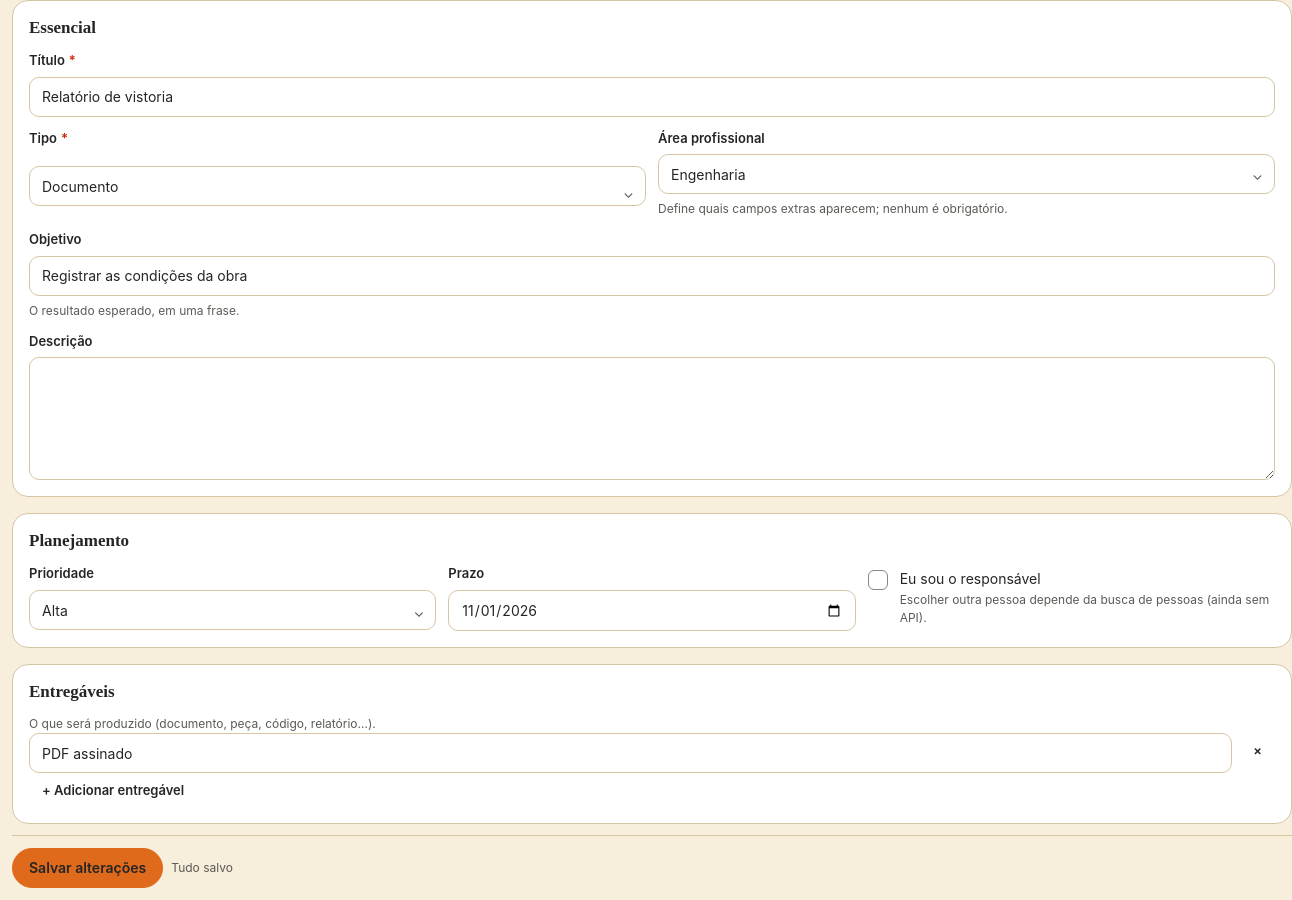
criador e edição de tarefa (RF4/RF12) › 422 do servidor aparece junto do campo; 409 mantém o texto e oferece recarregar
Replace the text in the field labelled "Título*" with "Meu texto local" at (652, 97), box left=29, top=77, right=1275, bottom=117
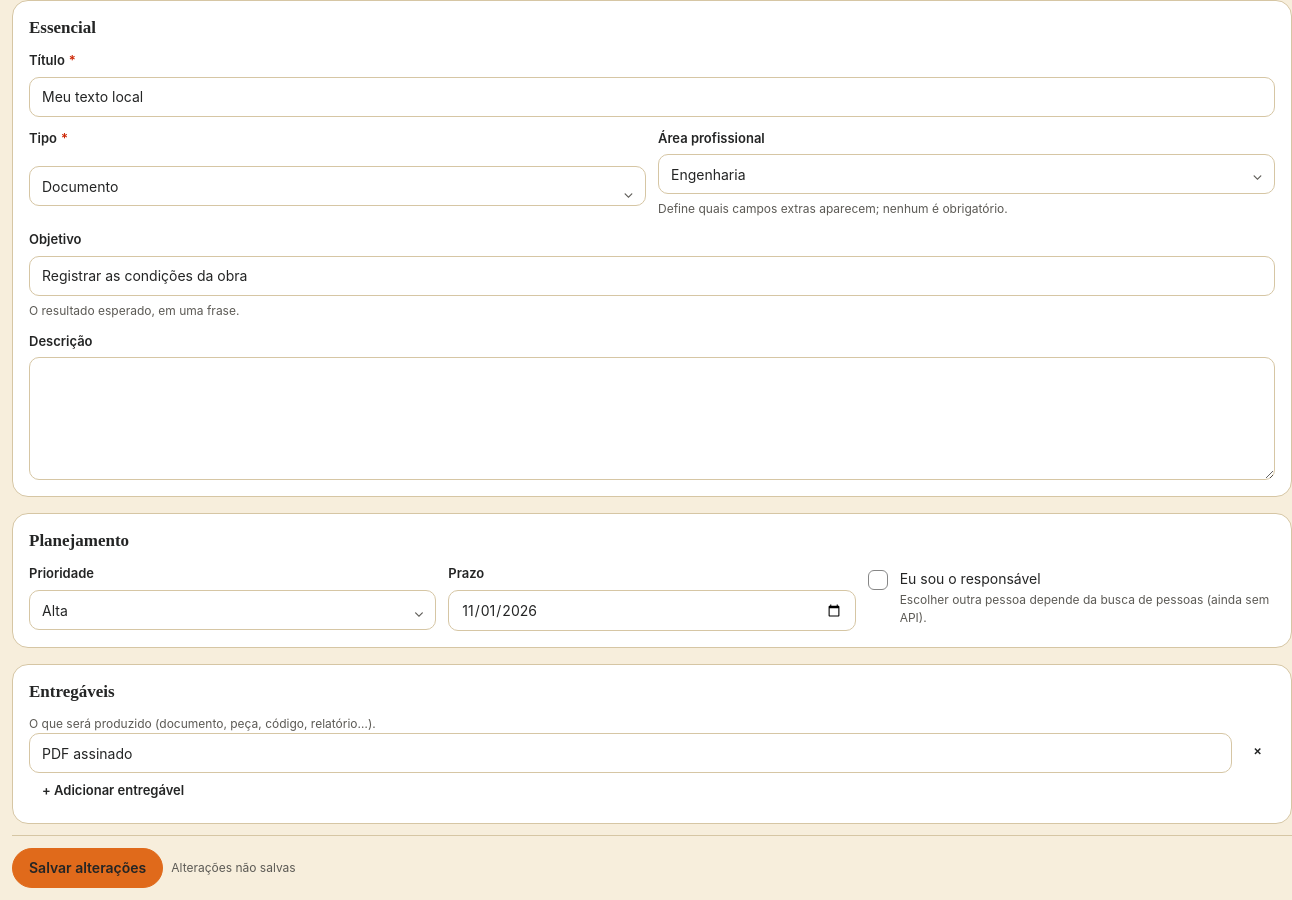
Click the button with test id "task-submit" at (88, 868), box left=12, top=848, right=163, bottom=888
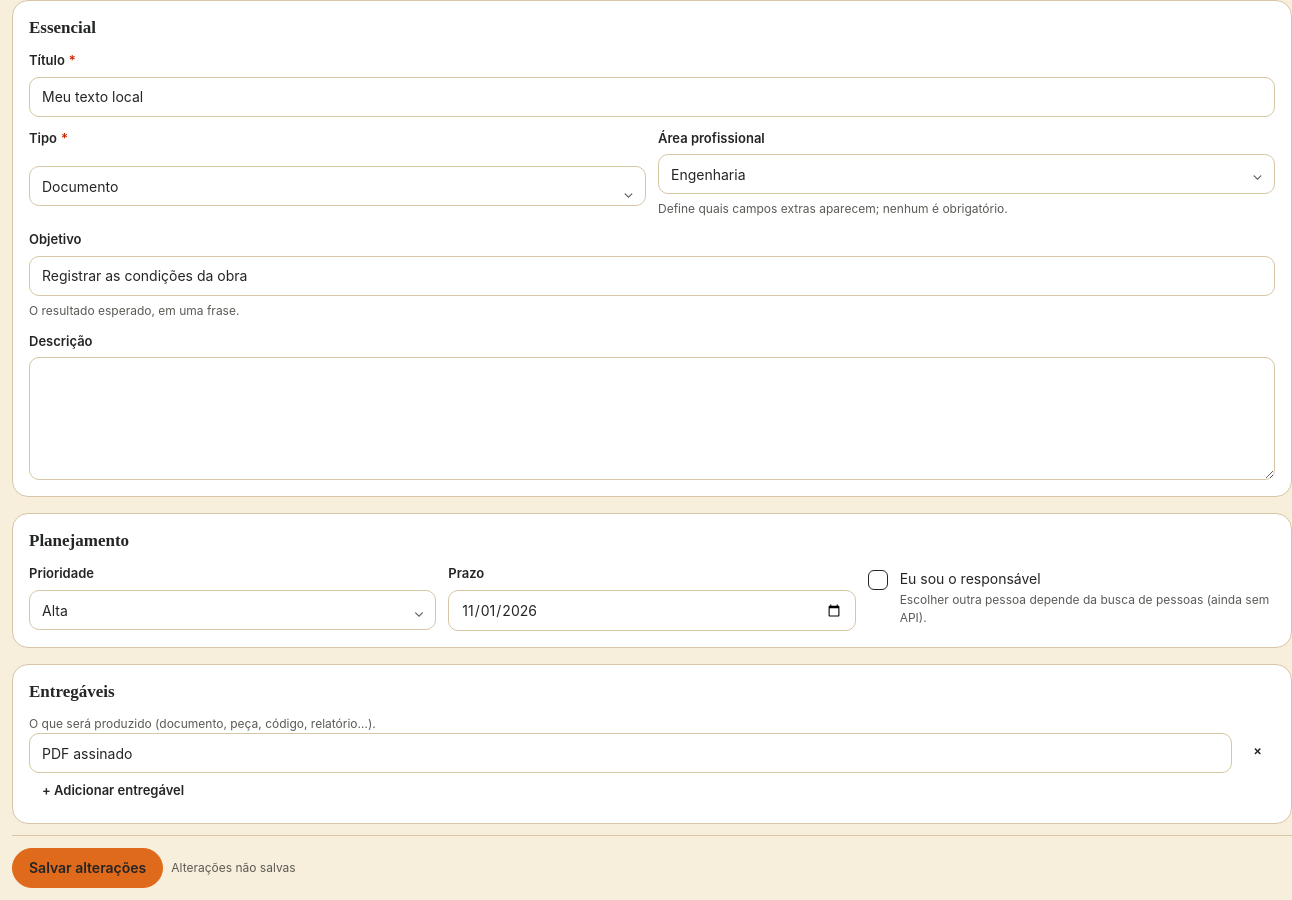
Click the button with test id "task-submit" at (88, 868), box left=12, top=848, right=163, bottom=888
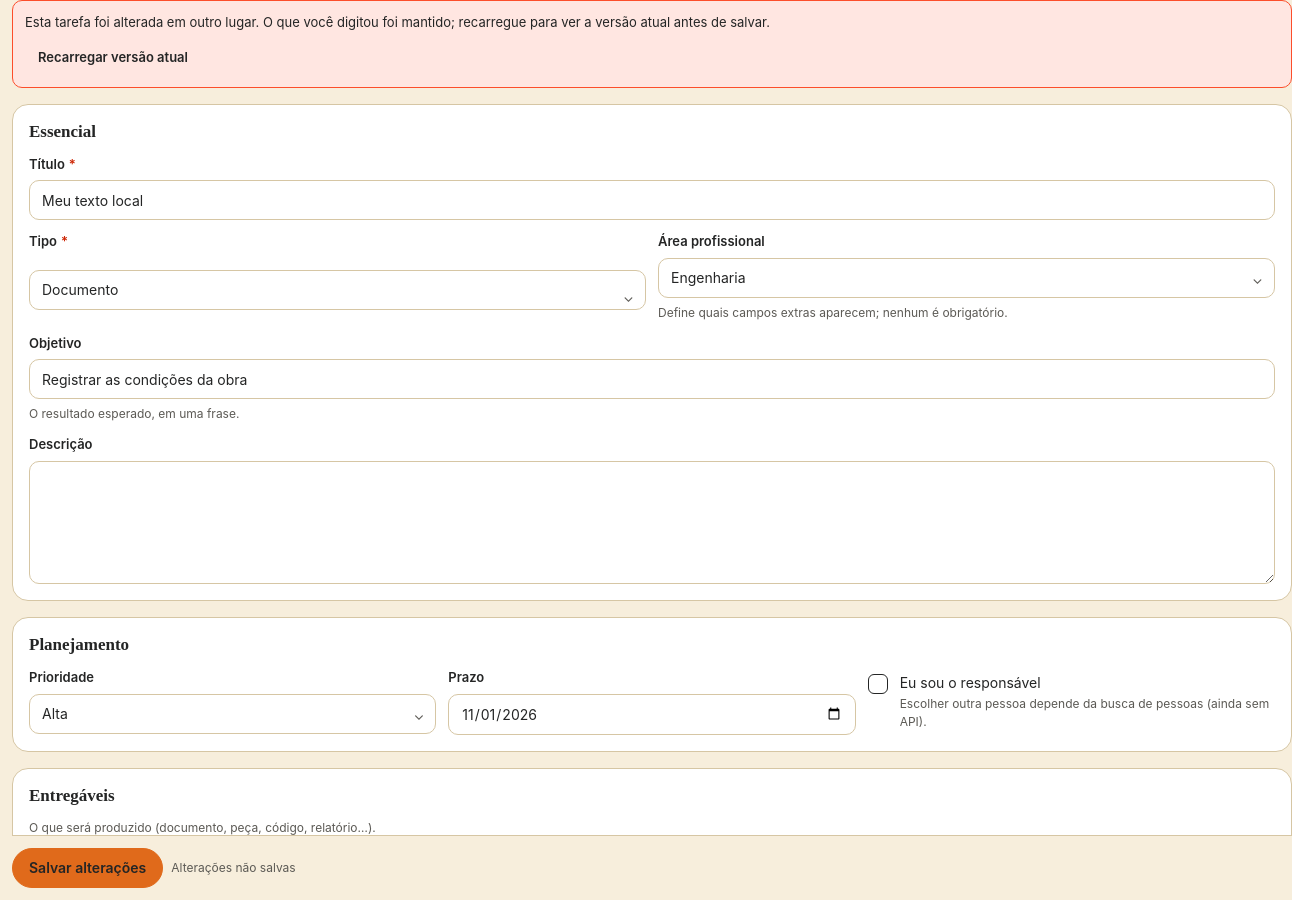
Click the button "Recarregar versão atual" at (113, 58), box left=25, top=40, right=201, bottom=74
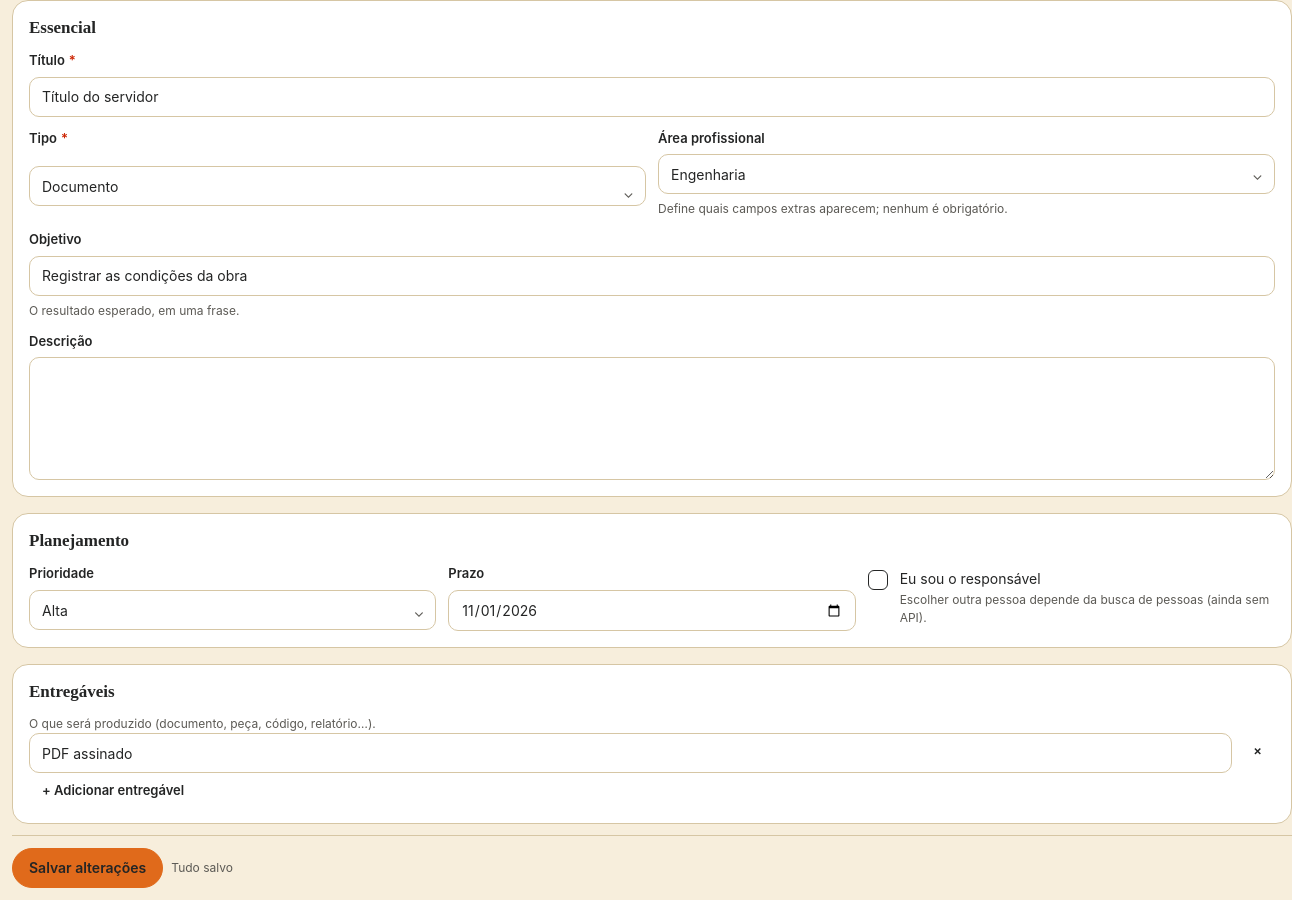
Expected: the field labelled "Título*" holds "Título do servidor", left=29, top=77, right=1275, bottom=117
